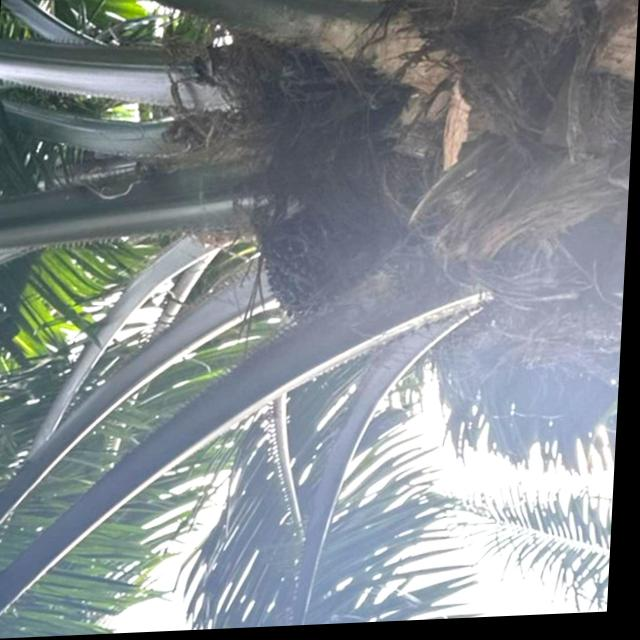unripe: (252, 220, 376, 335)
